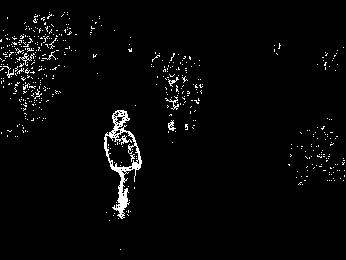person: (102, 109, 142, 219)
